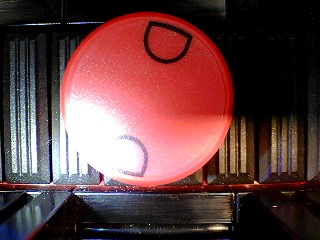MIPO2: (59, 11, 235, 187)
